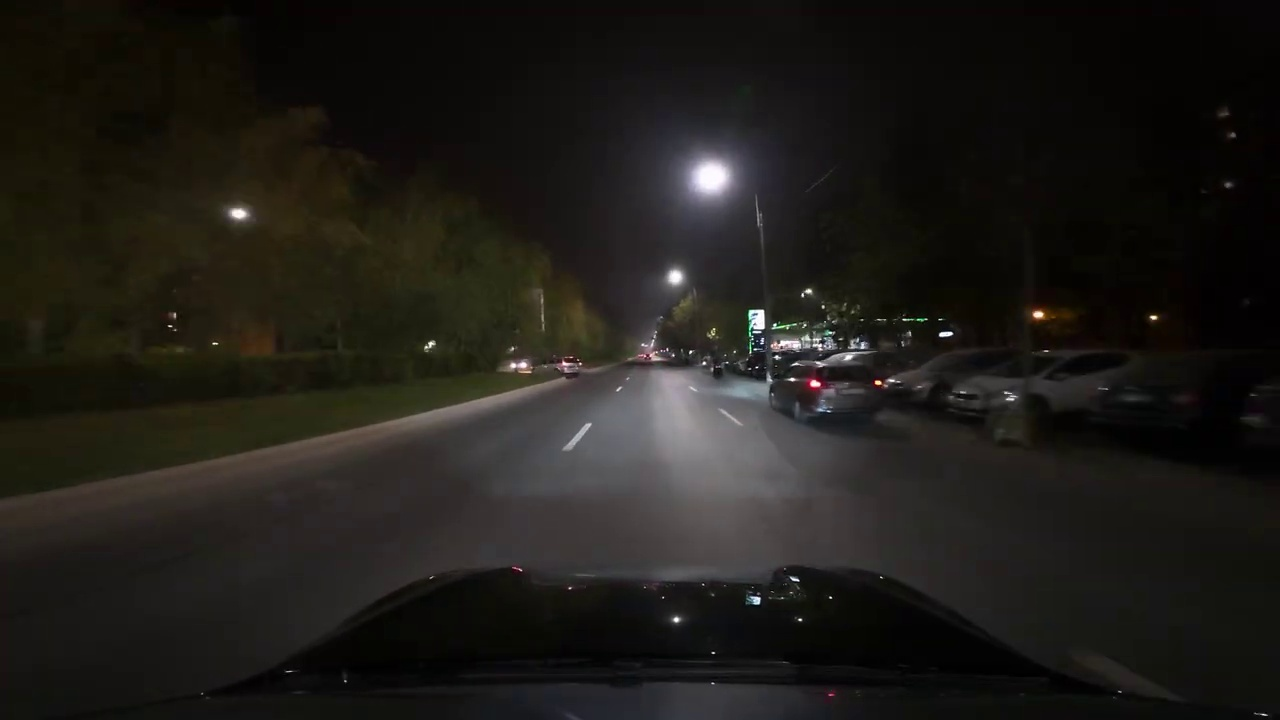acesa: (692, 161, 728, 192), (662, 265, 687, 289)
